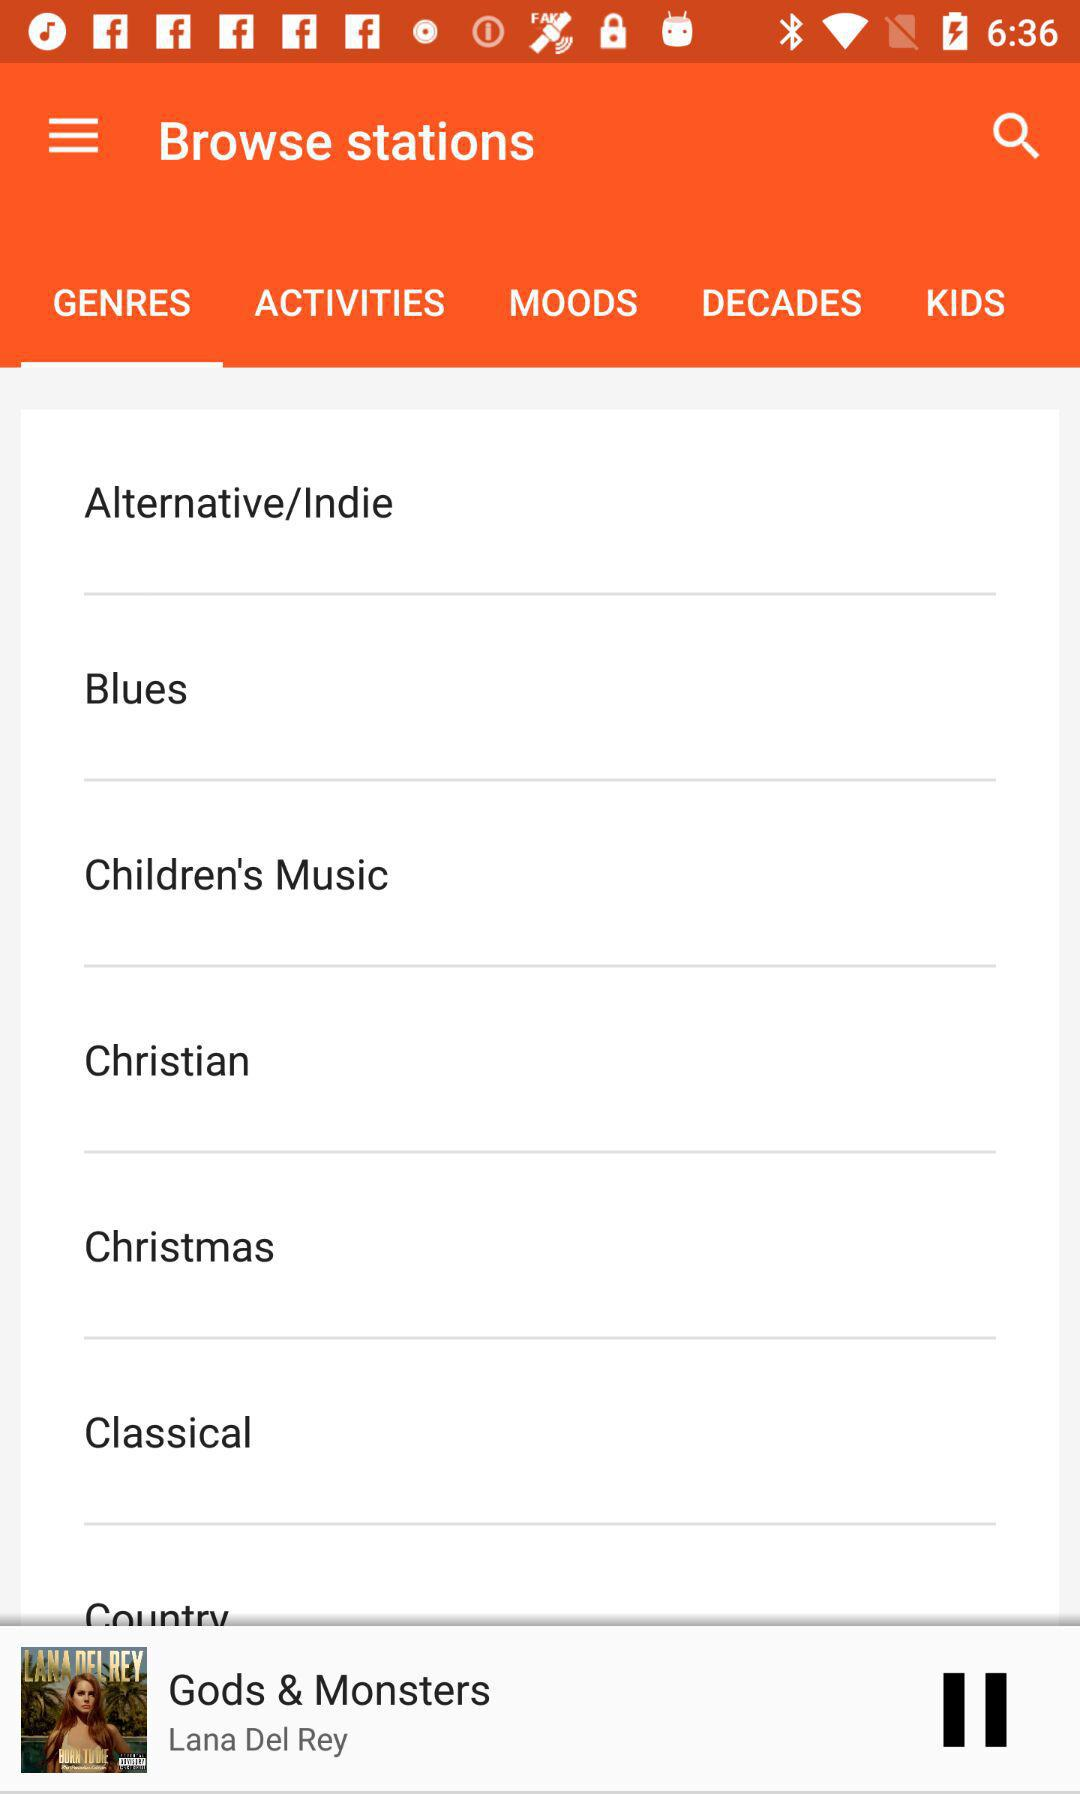Icon: (992, 111, 1042, 161), (47, 117, 101, 156)
Image: (20, 1647, 149, 1773), (942, 1671, 1010, 1749)
Text: (160, 120, 536, 164), (169, 1671, 491, 1708), (85, 484, 395, 522), (85, 857, 389, 892), (85, 1228, 275, 1263), (169, 1725, 350, 1759), (85, 1413, 252, 1451), (252, 290, 446, 320), (85, 1043, 250, 1078), (702, 288, 863, 319), (53, 288, 192, 320), (509, 290, 639, 319), (85, 1601, 232, 1626), (87, 671, 188, 706), (928, 288, 1006, 319)
UpperTaskBar: (1, 1, 1080, 64)
